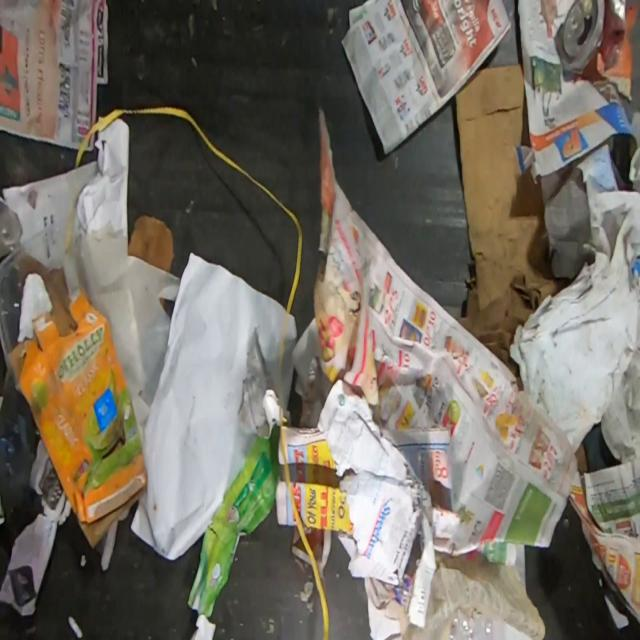cardboard: (10, 284, 146, 546), (456, 64, 562, 376), (128, 216, 174, 273), (43, 268, 76, 335), (17, 252, 53, 289)
metal: (554, 0, 632, 76)
rigid_plastic: (0, 232, 38, 542)
soft_plastic: (188, 422, 284, 619), (402, 551, 546, 640), (0, 197, 24, 268)
